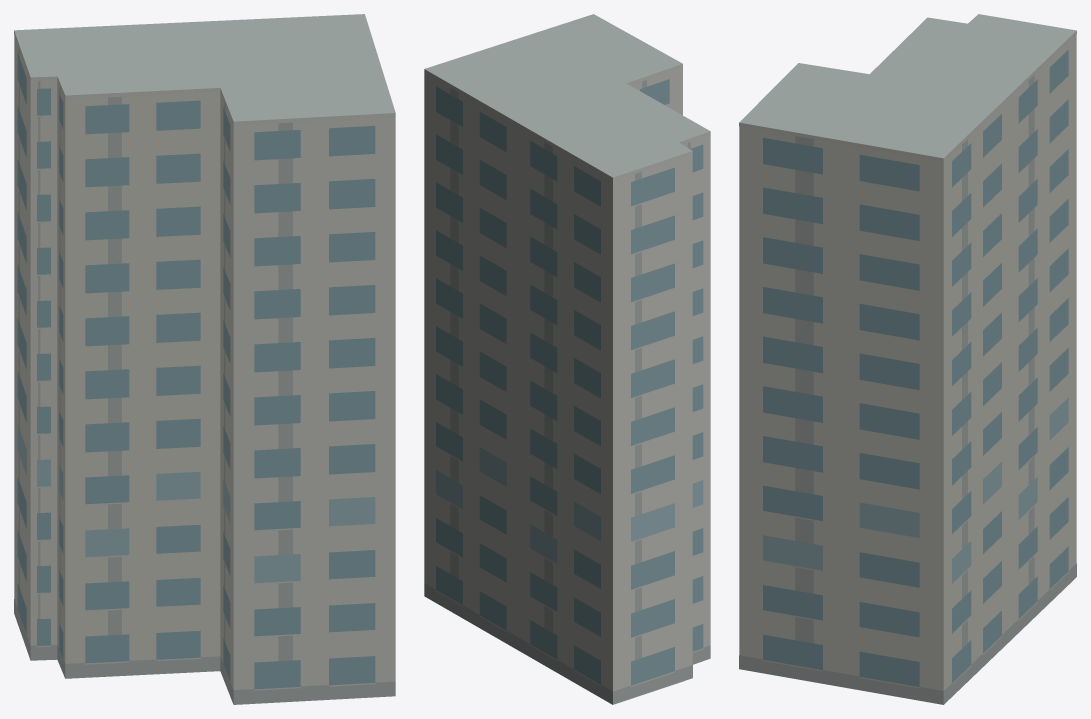
Rendered from residential-ab2c6232-eac8-40a1-8df6-25d0acb30ce2.glb.
The picture shows the model from 3 angles, left to right: view 1: azimuth 30°, elevation 25°; view 2: azimuth 150°, elevation 25°; view 3: azimuth 270°, elevation 25°; orthographic projection. The views are drawn at different scales.
Visible parts, largest first — view 1: residential-ab2c6232-eac8-40a1-8df6-25d0acb30ce2.tmp; view 2: residential-ab2c6232-eac8-40a1-8df6-25d0acb30ce2.tmp; view 3: residential-ab2c6232-eac8-40a1-8df6-25d0acb30ce2.tmp.
Boxes of the visible parts, x1,y1,x2,y2 form: residential-ab2c6232-eac8-40a1-8df6-25d0acb30ce2.tmp: (14,14,395,704); residential-ab2c6232-eac8-40a1-8df6-25d0acb30ce2.tmp: (424,14,710,704); residential-ab2c6232-eac8-40a1-8df6-25d0acb30ce2.tmp: (739,14,1076,704).
Bounding box in the file's own units: 19.83 × 35 × 19.6.
